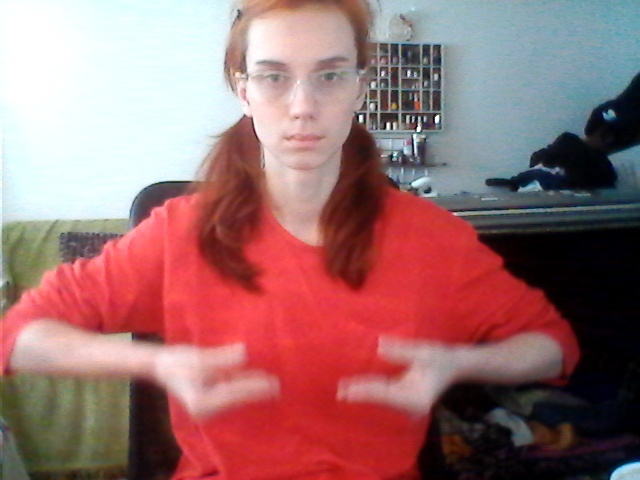drzat: (167, 332, 459, 417)
